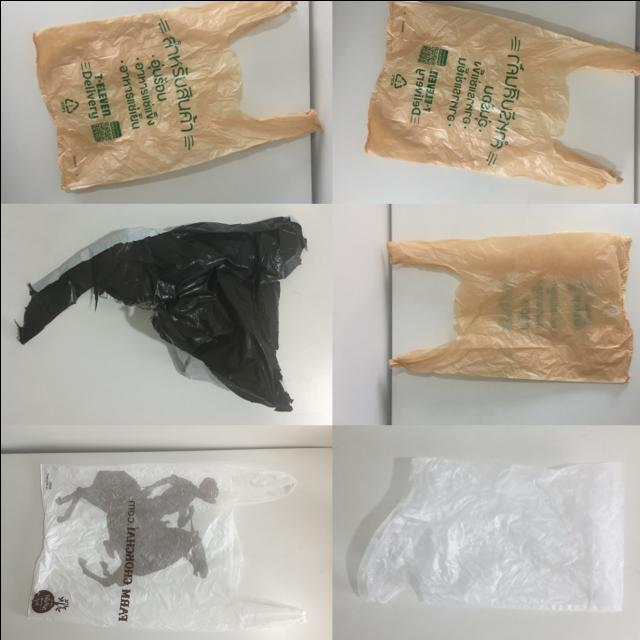plastik: (18, 216, 305, 409), (33, 0, 319, 188), (364, 0, 640, 188), (30, 463, 304, 630), (357, 456, 623, 611), (387, 232, 632, 382)
